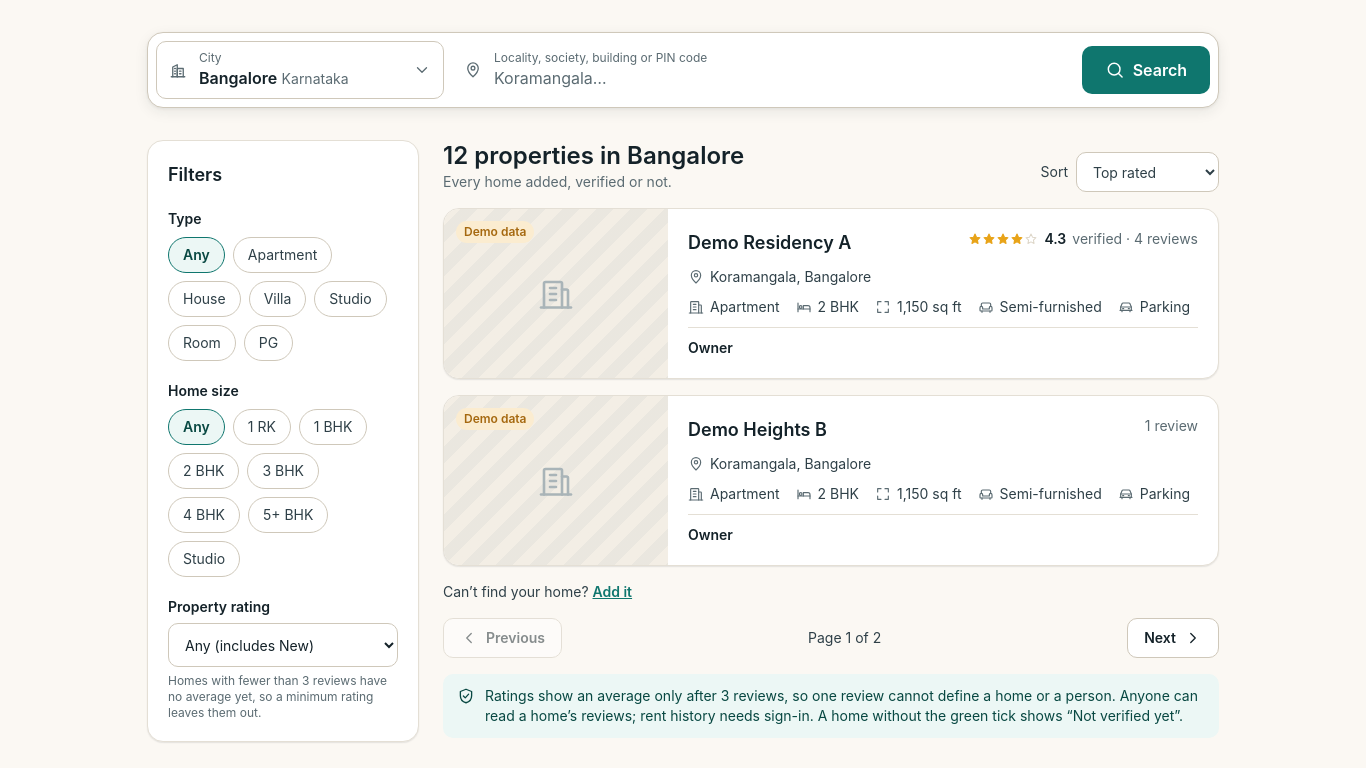
it: SearchPage › searches homes in any of several cities kept in the URL (captain 2026-11-27)
The width and height of the screenshot is (1366, 768).
Later steps or results of the test are not shown.
Check: the heading "12 properties in Bangalore" is shown, box x1=443 y1=140 x2=744 y2=172
Click the button "City Bangalore Karnataka" at (300, 70), box x1=156 y1=41 x2=444 y2=99
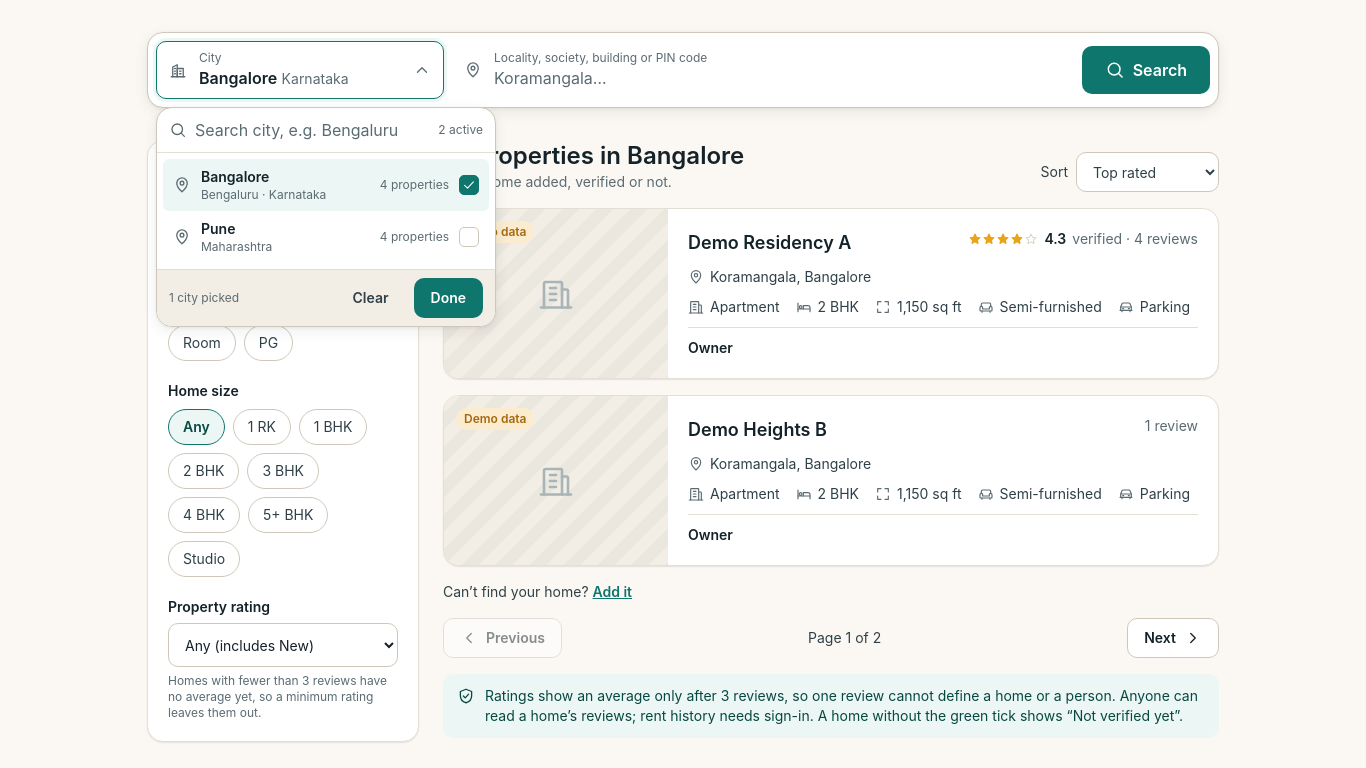
Click the option "Pune Maharashtra 4 properties" at (218, 228), box x1=163 y1=211 x2=489 y2=263
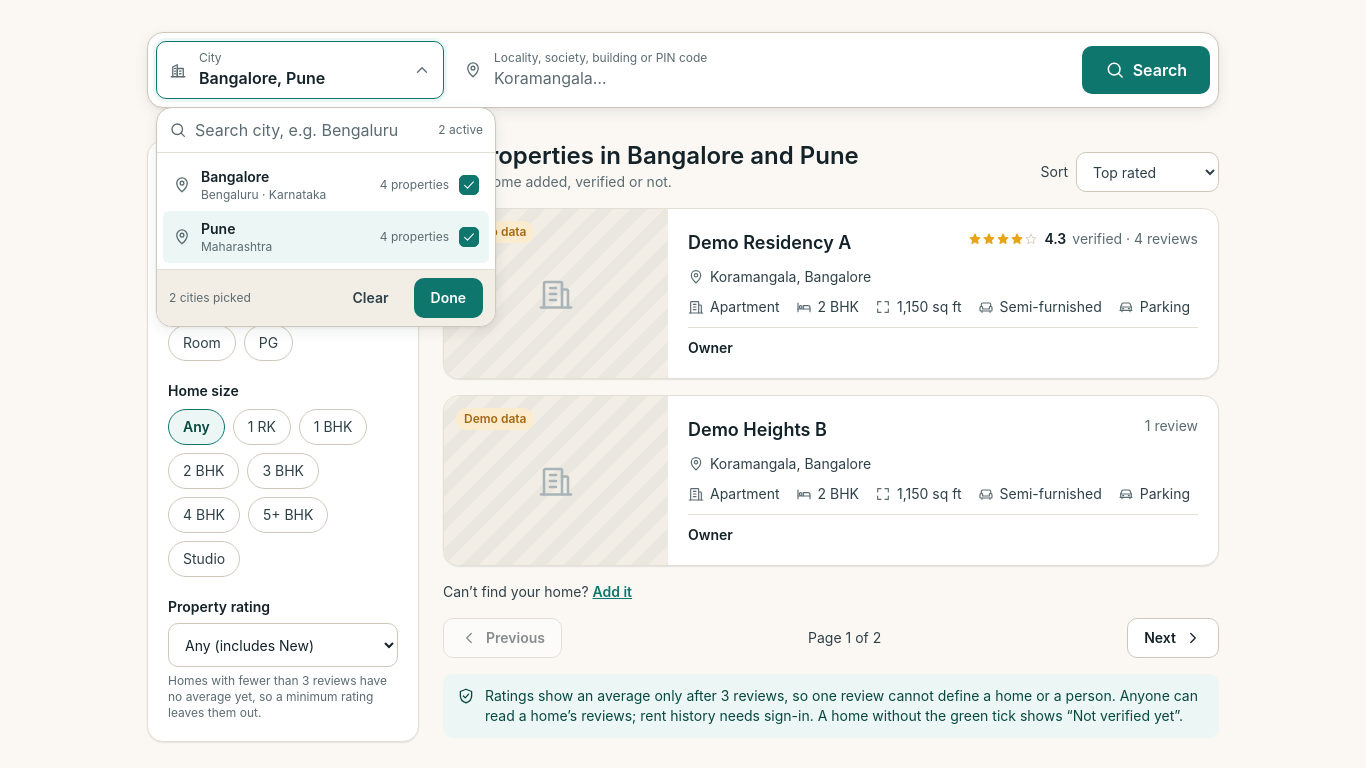
Check: the list named "Cities" is shown, box x1=157 y1=153 x2=495 y2=269
Check: the heading "12 properties in Bangalore and Pune" is shown, box x1=443 y1=140 x2=859 y2=172
Click the button "Done" at (448, 298), box x1=414 y1=278 x2=483 y2=318
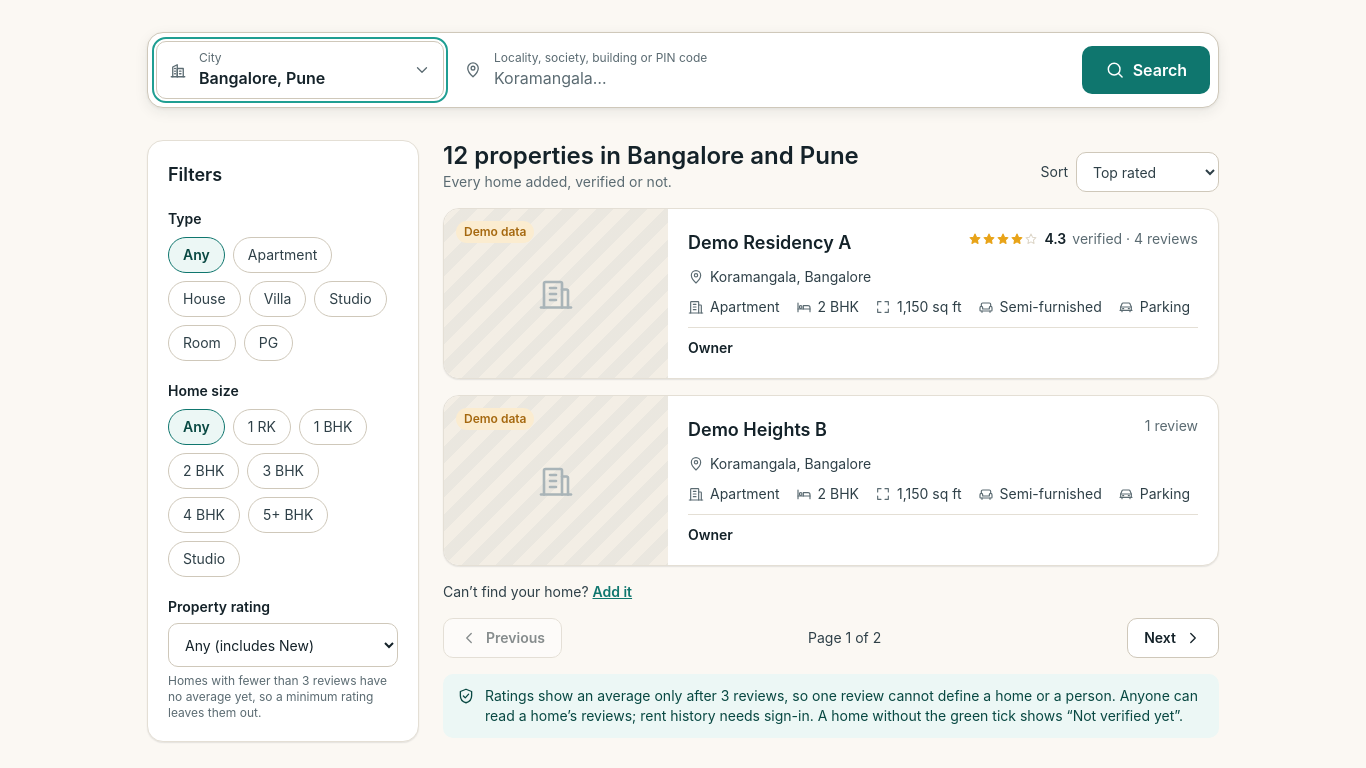
Check: the button "City Bangalore, Pune" is shown, box x1=156 y1=41 x2=444 y2=99
Check: the text "cities" is gone
